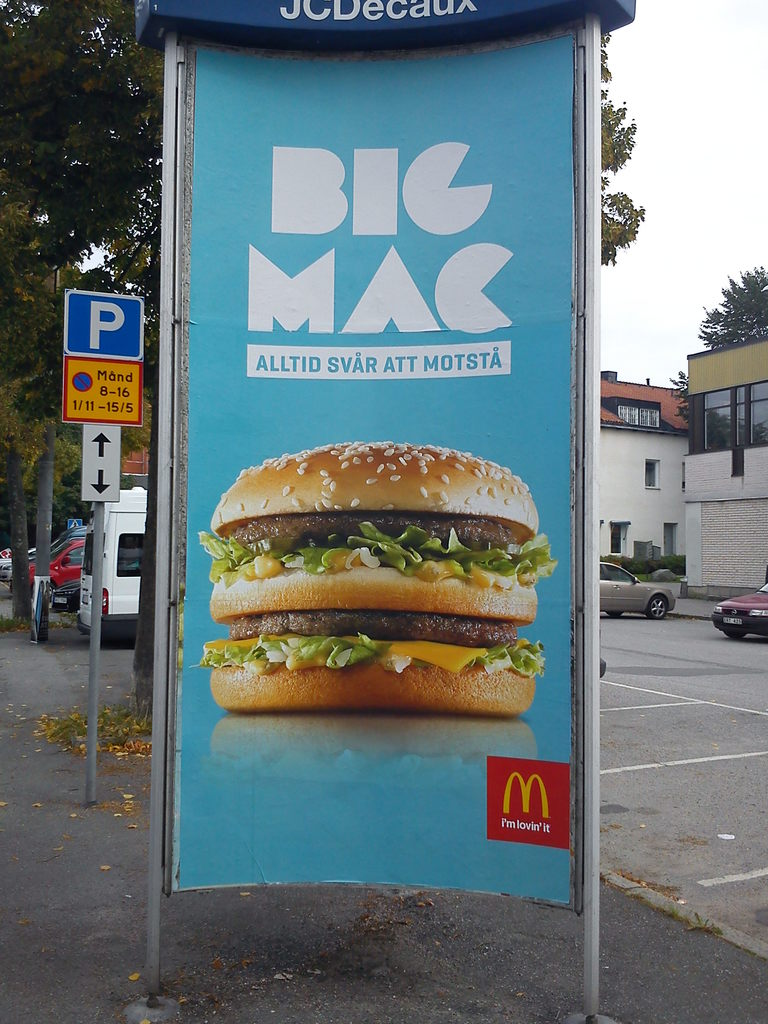Hamburger: (187, 441, 561, 716)
